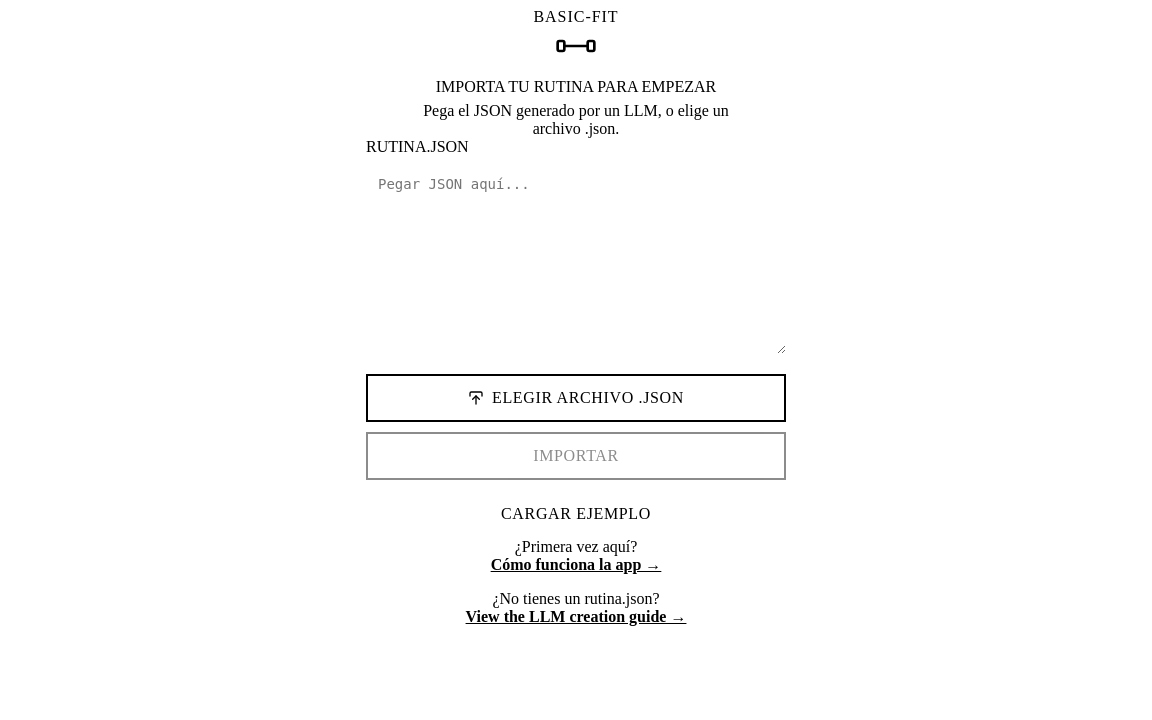
it: ImportScreen — onboarding revisit link (AC7) › opens the onboarding overlay when the revisit link is clicked
This screenshot has width=1152, height=720.
Click the link "Cómo funciona la app →". click: (576, 564)
box: [491, 556, 661, 573]
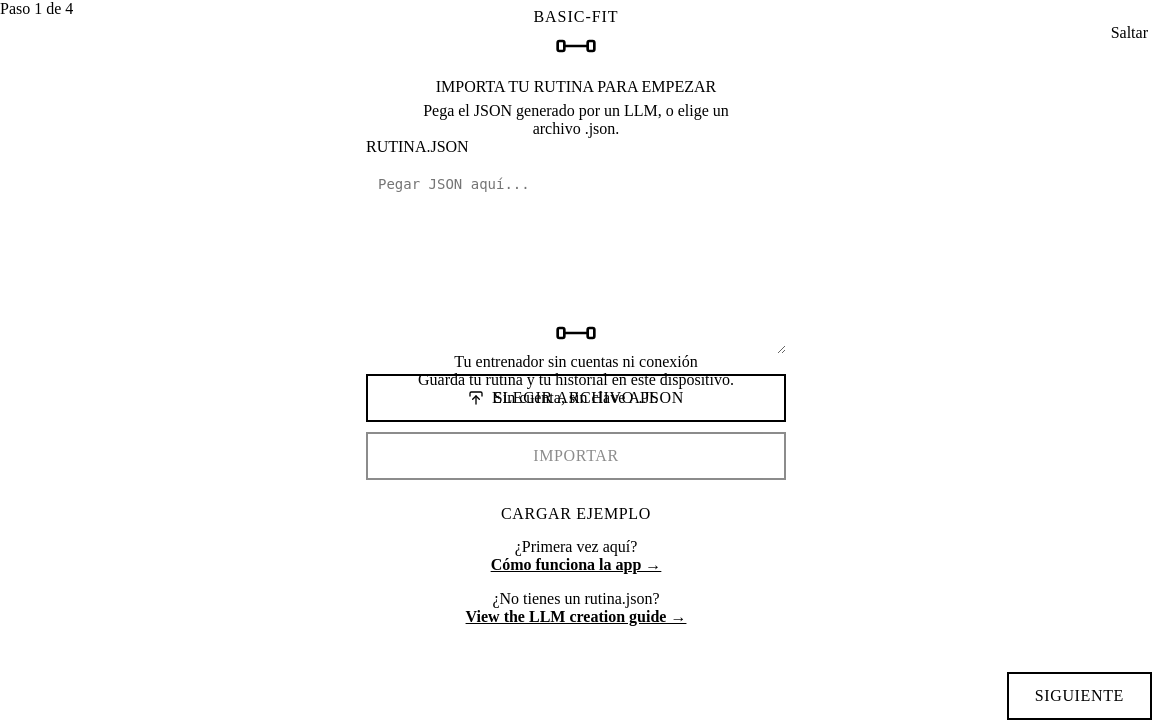
Now the dialog is shown
